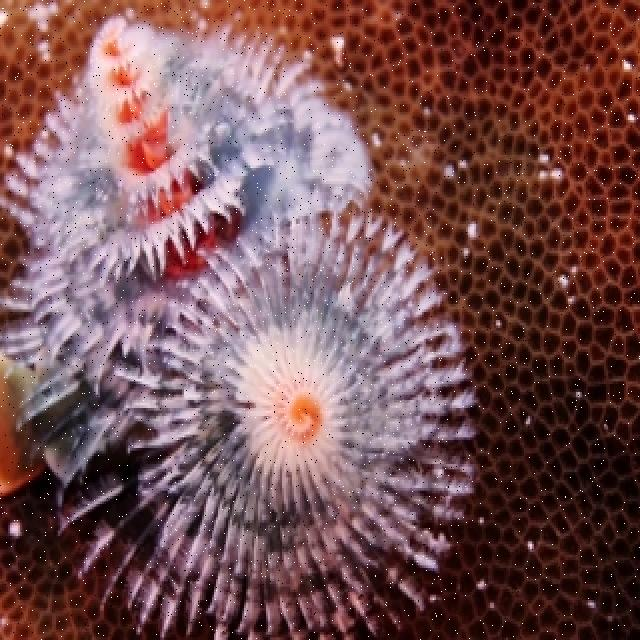reefs: (57, 198, 479, 636), (0, 14, 374, 492)
